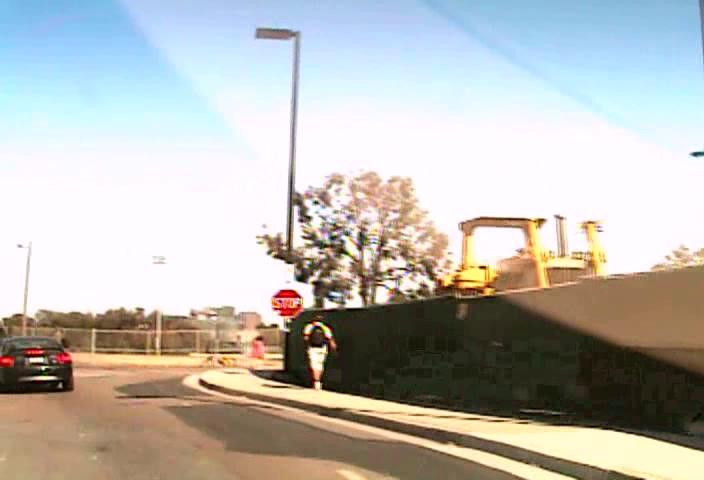stop: (270, 288, 304, 318)
